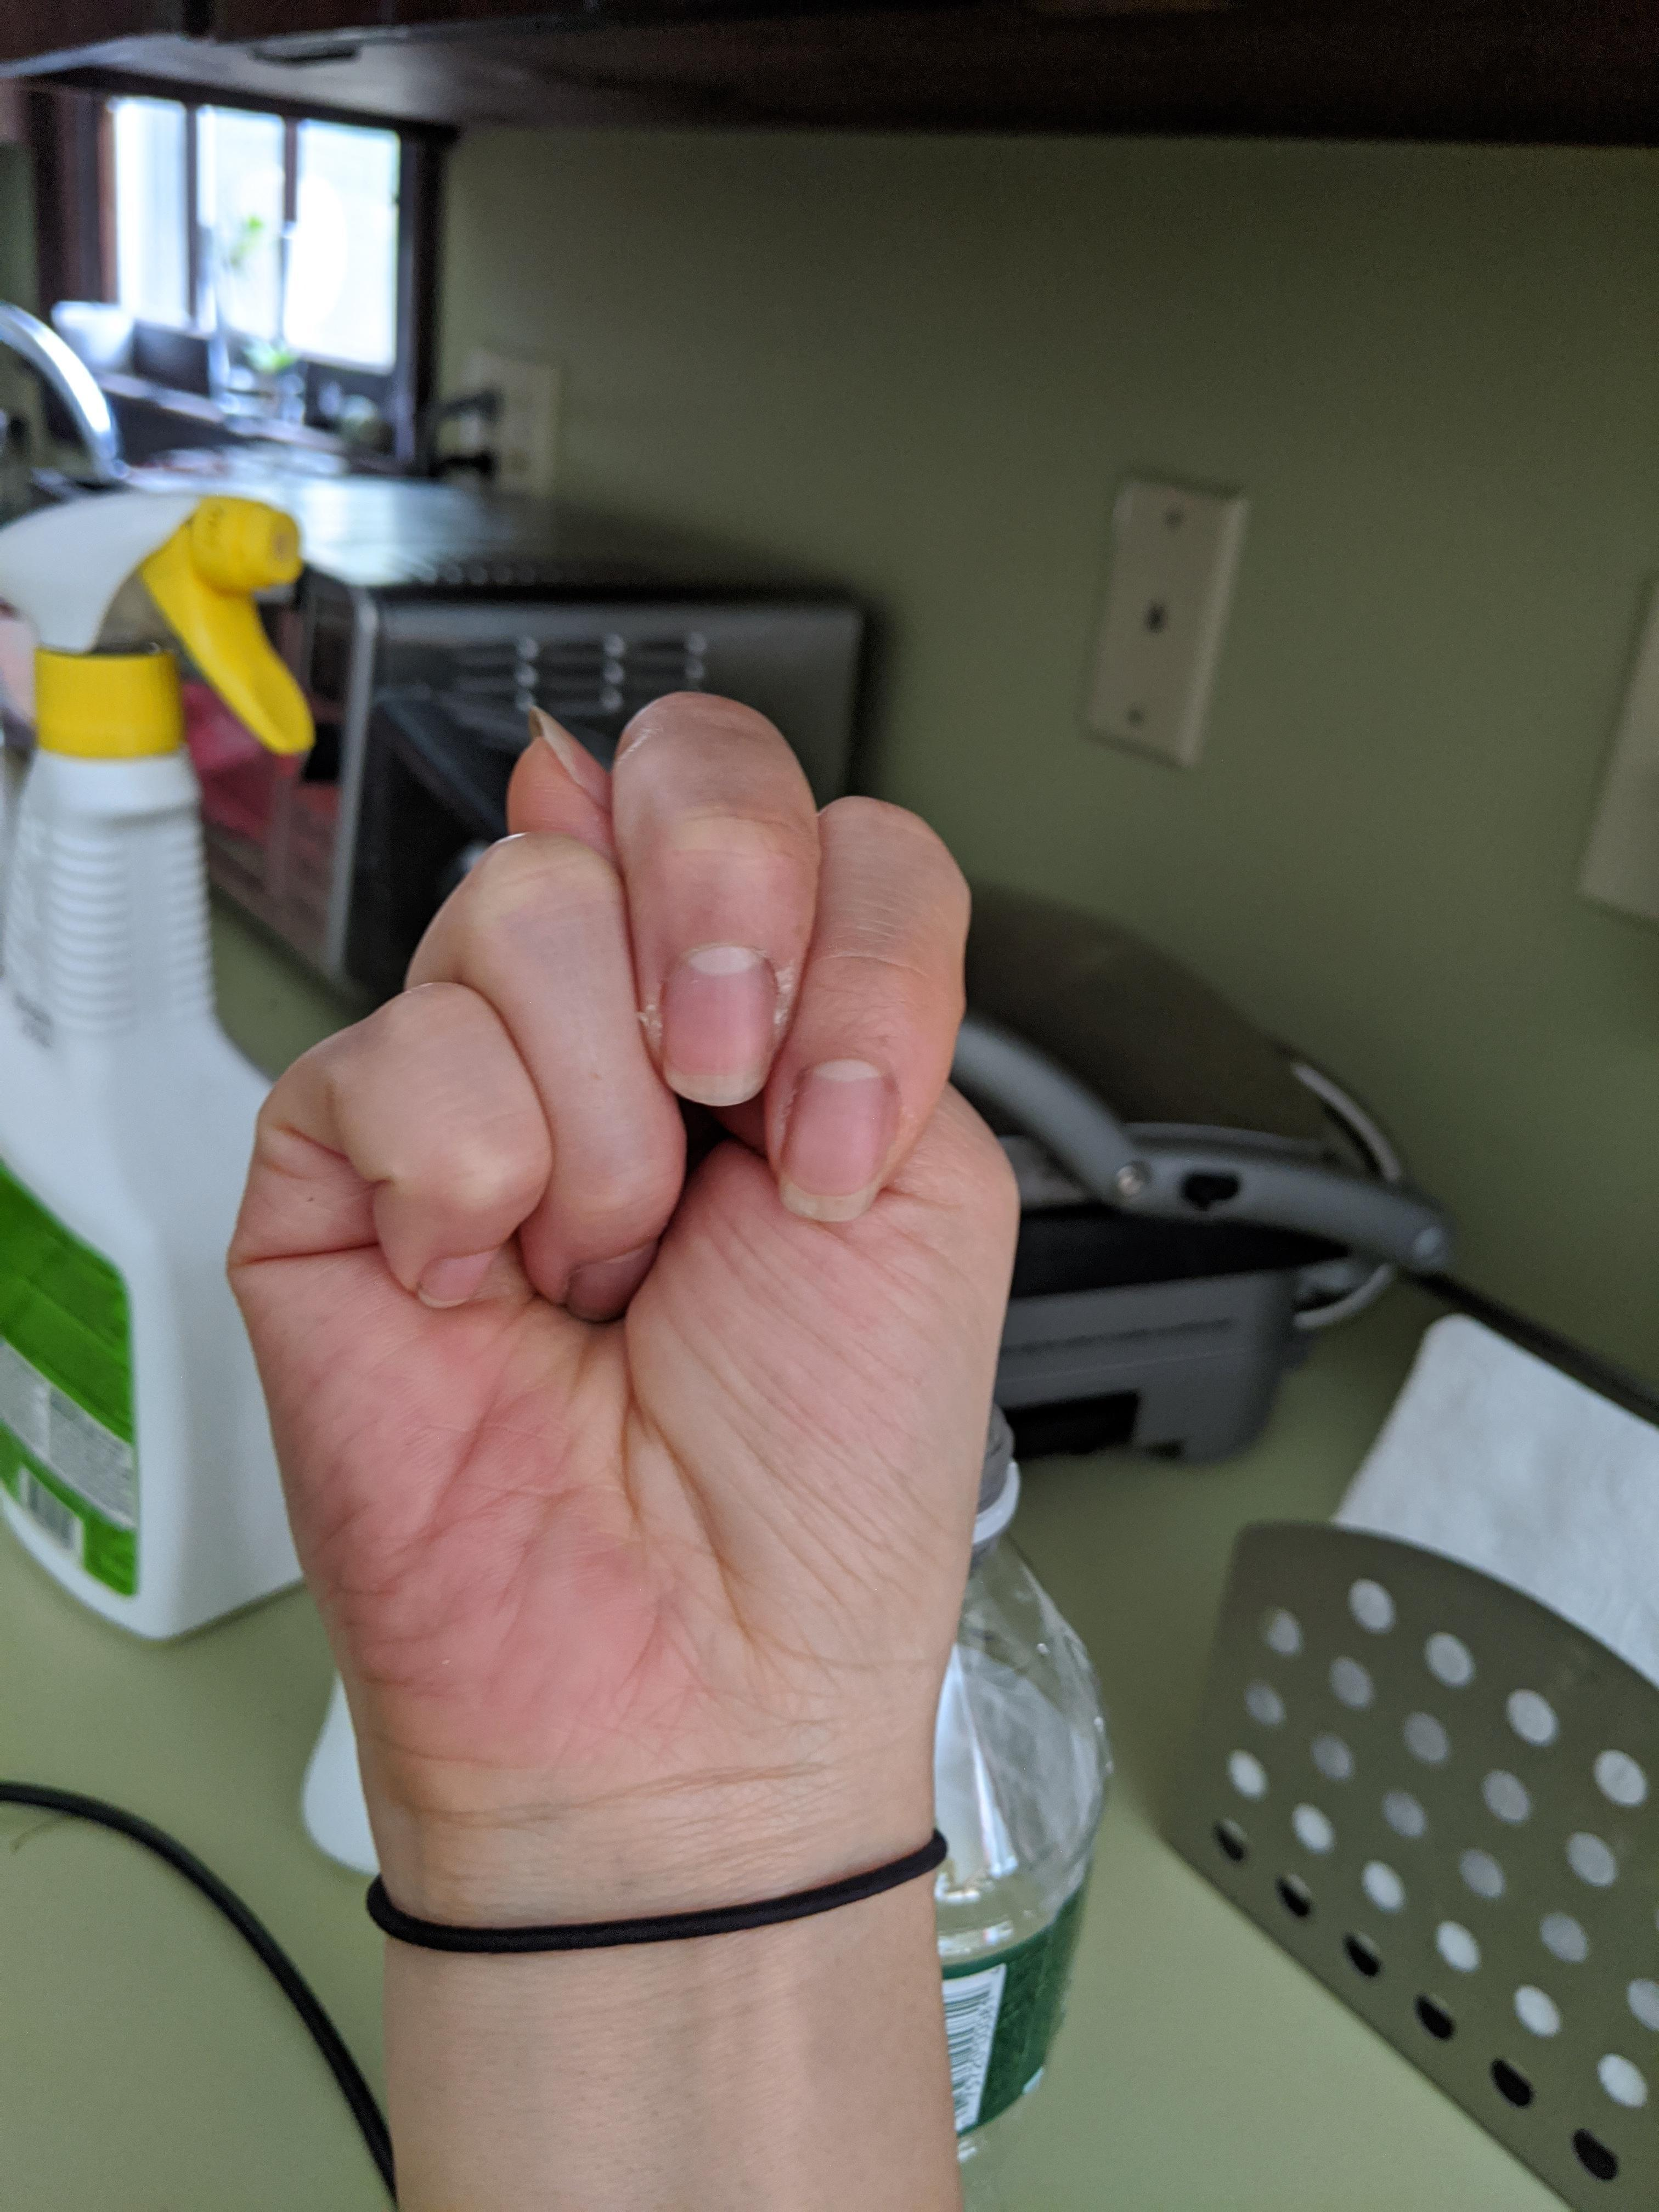N: (209, 665, 1033, 1834)
